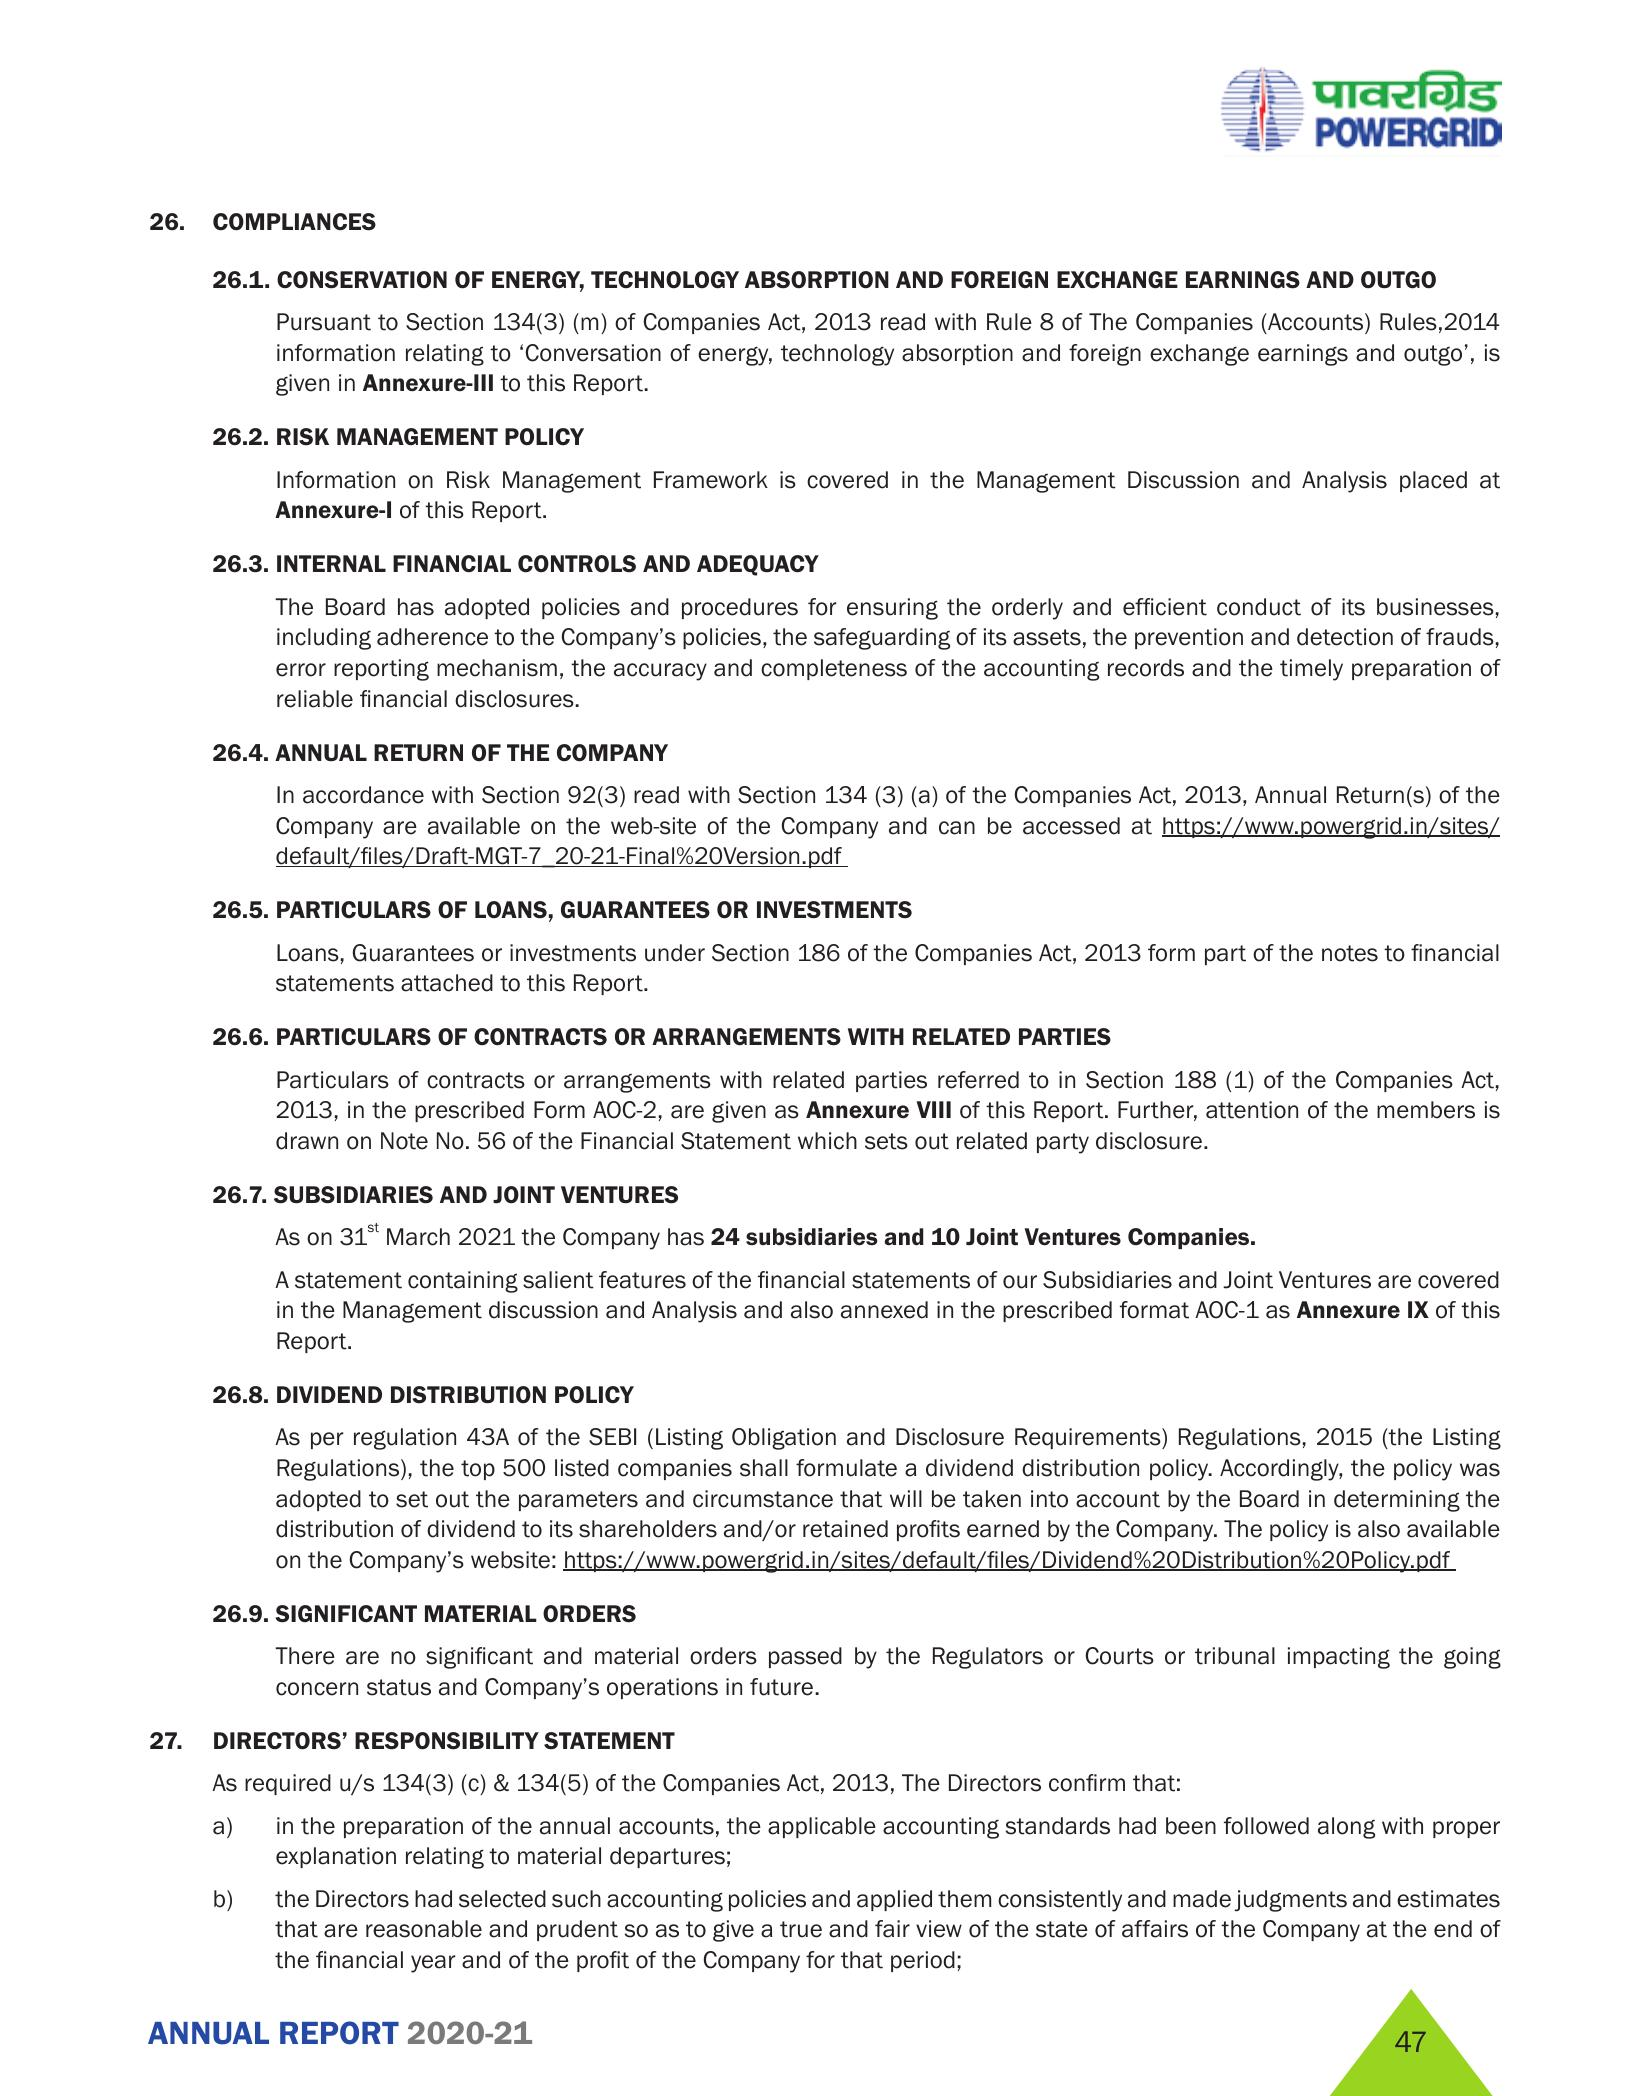Footer: (0, 1982, 1650, 2096)
Header: (0, 0, 1650, 172)
